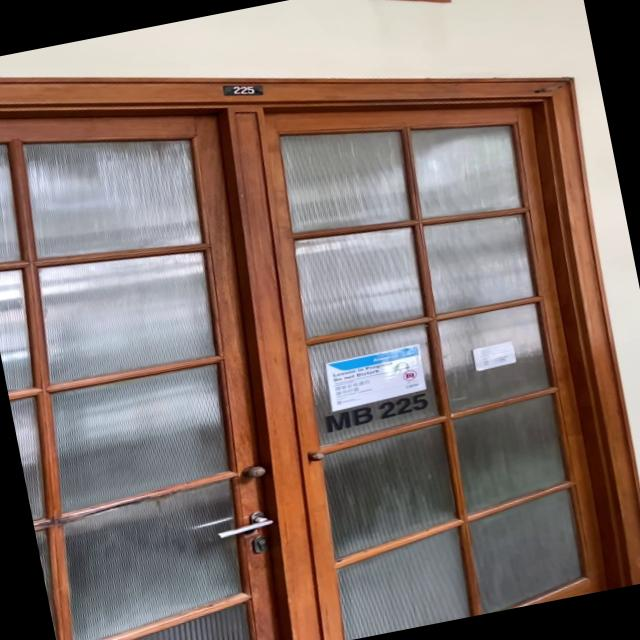room225: (220, 76, 268, 105)
room225Window: (320, 392, 434, 436)
